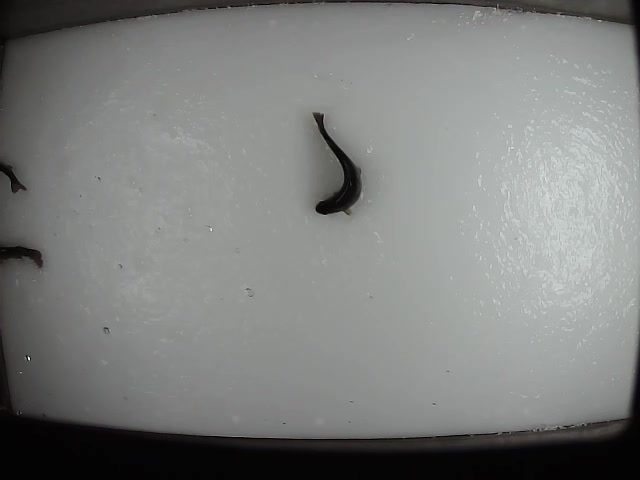Fish: (311, 112, 362, 216)
